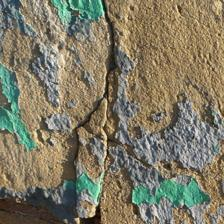Crack: (0, 0, 73, 109), (37, 3, 88, 114)
